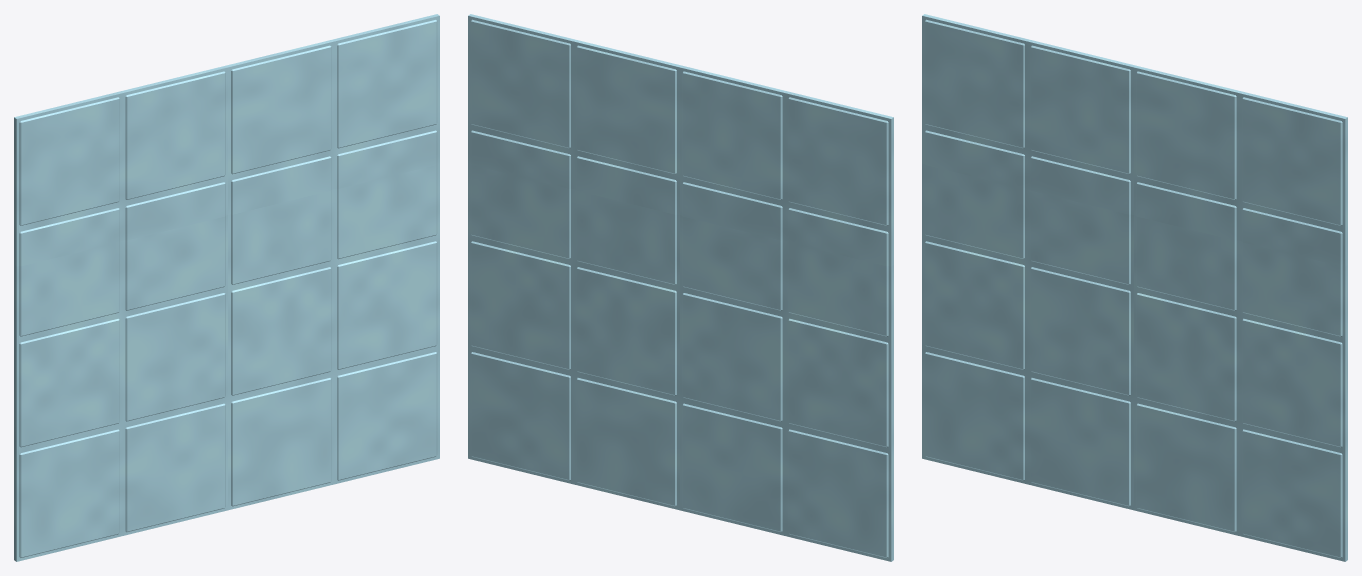
File: Kit_Glass_Wall.fbx
3 renders of one model, left to right at view 1: azimuth 30°, elevation 25°; view 2: azimuth 150°, elevation 25°; view 3: azimuth 330°, elevation 25°, orthographic.
Parts seen in each view (by area): view 1: Kit_Glass_Wall_LOD0; view 2: Kit_Glass_Wall_LOD0; view 3: Kit_Glass_Wall_LOD0.
Boxes of the visible parts, box(x1,y1,x2,y2) form: Kit_Glass_Wall_LOD0: box(14, 14, 439, 561); Kit_Glass_Wall_LOD0: box(468, 14, 893, 561); Kit_Glass_Wall_LOD0: box(922, 14, 1347, 561).
Size of what is drawn, in the model's own units: 3 by 3 by 0.05.
